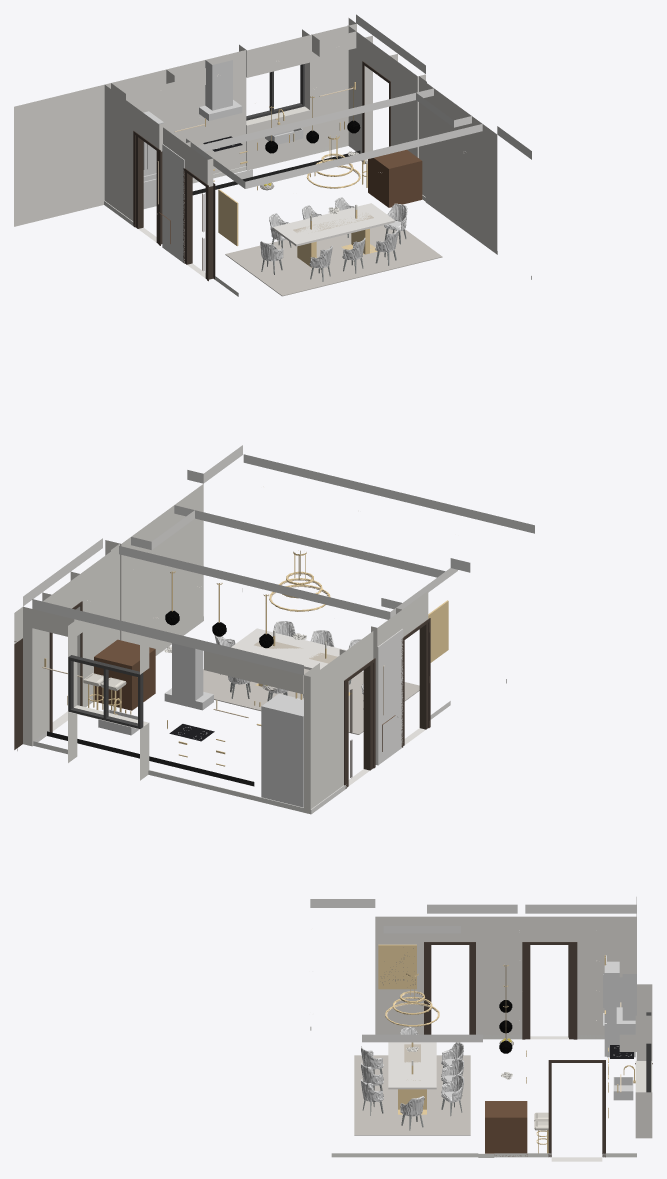
The model's file is KITDIN.glb.
3 renders of one model, top to bottom at view 1: azimuth 30°, elevation 25°; view 2: azimuth 150°, elevation 25°; view 3: azimuth 270°, elevation 25°, orthographic. The views are drawn at different scales.
Parts seen in each view (by area): view 1: WEB_KITDIN; view 2: WEB_KITDIN; view 3: WEB_KITDIN.
Part boxes in pixels (left/top/right/bottom): WEB_KITDIN: left=14, top=14, right=531, bottom=296; WEB_KITDIN: left=14, top=445, right=534, bottom=814; WEB_KITDIN: left=310, top=897, right=652, bottom=1161.
Size of the model in its own units: 8.48 by 3 by 13.2.
